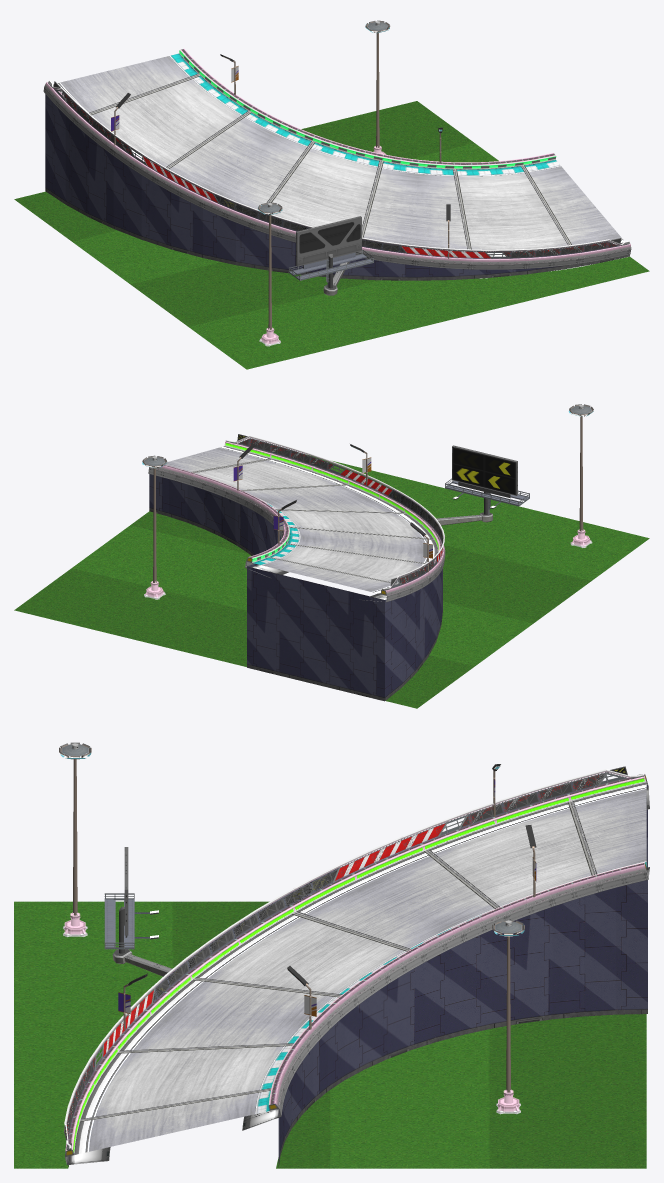
The model's file is T30 - Ground.fbx.
The picture shows the model from 3 angles, top to bottom: view 1: azimuth 30°, elevation 25°; view 2: azimuth 150°, elevation 25°; view 3: azimuth 270°, elevation 25°; orthographic projection. The views are drawn at different scales.
Parts seen in each view (by area): view 1: drift_road, standard_ground_grass1, retainer663, wall_drift, standard_arrow_left, prop_billboard_left, standard_bridge14, banking_middle_lines, pro_floodlight_overhead, pro_floodlight_overhead_2; view 2: standard_ground_grass1, retainer663, drift_road, wall_drift, prop_billboard_left, standard_arrow_left, standard_bridge14, banking_middle_lines, pro_floodlight_overhead, pro_floodlight_overhead_2; view 3: standard_ground_grass1, drift_road, retainer663, wall_drift, standard_arrow_left, standard_bridge14, banking_middle_lines, prop_billboard_left, pro_floodlight_overhead_2, pro_floodlight_overhead, tower_attachment.
Boxes of the visible parts, x1,y1,x2,y2 form: drift_road: [53, 53, 624, 256]; standard_ground_grass1: [14, 101, 649, 369]; retainer663: [45, 94, 629, 280]; wall_drift: [44, 48, 631, 264]; standard_arrow_left: [48, 80, 629, 258]; prop_billboard_left: [289, 216, 373, 288]; standard_bridge14: [43, 87, 631, 269]; banking_middle_lines: [89, 77, 572, 249]; pro_floodlight_overhead: [365, 20, 390, 147]; pro_floodlight_overhead_2: [258, 202, 282, 329]; standard_ground_grass1: [14, 454, 649, 708]; retainer663: [149, 474, 442, 701]; drift_road: [163, 446, 437, 594]; wall_drift: [149, 441, 445, 595]; prop_billboard_left: [445, 445, 529, 514]; standard_arrow_left: [225, 434, 444, 590]; standard_bridge14: [148, 467, 444, 602]; banking_middle_lines: [191, 459, 422, 583]; pro_floodlight_overhead: [142, 455, 167, 582]; pro_floodlight_overhead_2: [569, 404, 593, 531]; standard_ground_grass1: [14, 901, 646, 1168]; drift_road: [74, 782, 646, 1154]; retainer663: [68, 785, 647, 1167]; wall_drift: [65, 773, 646, 1156]; standard_arrow_left: [64, 766, 644, 1150]; standard_bridge14: [65, 780, 649, 1164]; banking_middle_lines: [95, 807, 596, 1119]; prop_billboard_left: [104, 847, 158, 953]; pro_floodlight_overhead_2: [59, 742, 91, 915]; pro_floodlight_overhead: [492, 920, 524, 1092]; tower_attachment: [112, 949, 172, 976].
Size of the model in its own units: 12801 by 4184 by 12871.
